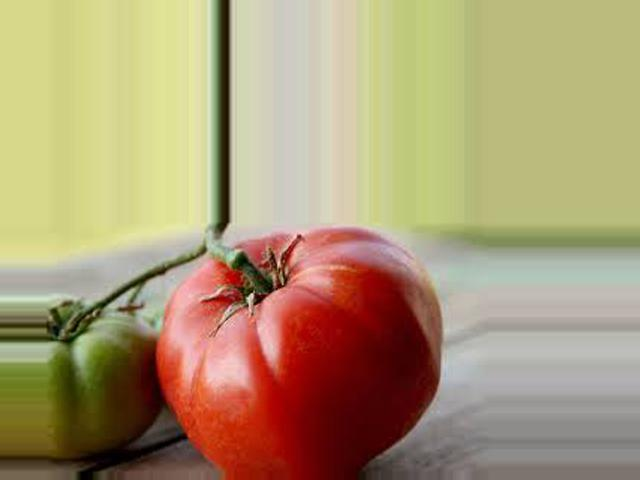tomato: (157, 226, 444, 473)
